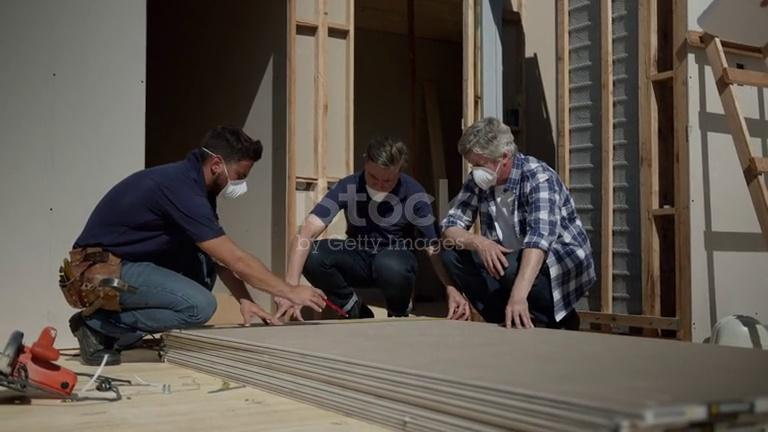mask: (470, 165, 496, 192), (222, 175, 248, 199)
person: (71, 124, 327, 366), (272, 136, 472, 324), (437, 117, 597, 331)
